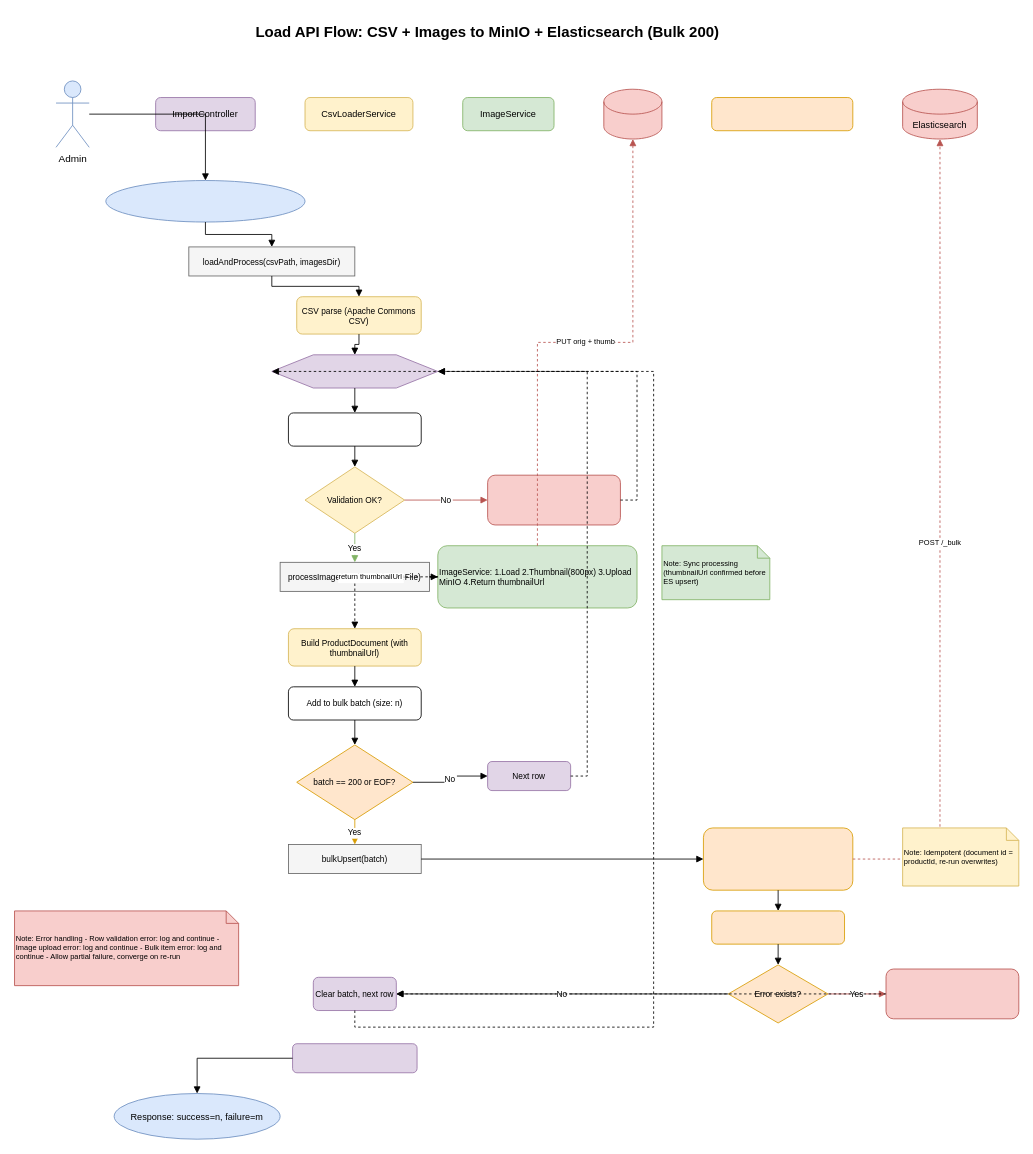
Some shapes in this 1033 by 1154 pixel diagram are drawn without their labels. The centre of each missing label's shape, as x and y in pixels:
"All rows processed" belongs at (354,1058).
"Bulk result check (item errors)" belongs at (778,927).
"BulkService: Build BulkRequest (id=productId, idempotent) Call ES Bulk API" belongs at (778,858).
"ElasticsearchBulkService" belongs at (782,114).
"Log error (row, productId) Continue" belongs at (553,499).
"Log item error (productId, error) Continue" belongs at (952,993).
"Loop: Each row" belongs at (354,371).
"MinIO" belongs at (632,113).
"Parse row (productId, title, imageFile...)" belongs at (354,429).
"POST /api/internal/products/import (csvPath, imagesDir)" belongs at (205,201).
